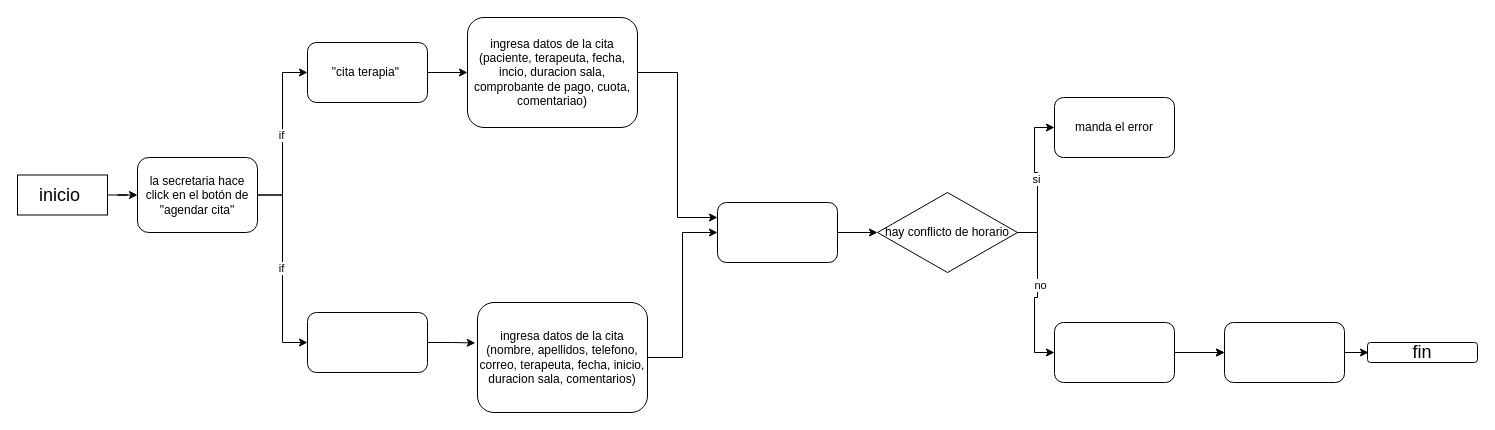
The diagram is 1495 pixels wide and 430 high, and some of its shapes have lost their labels. Here are the shapes that lost their labels. From the top down, the centre of each, then its label:
point (777, 232): sistema validad disponibilidad de recursos
point (367, 342): "evaluación incial"
point (1114, 352): guarda la cita en la base de datos
point (1284, 352): muestra la cita en al ageda
